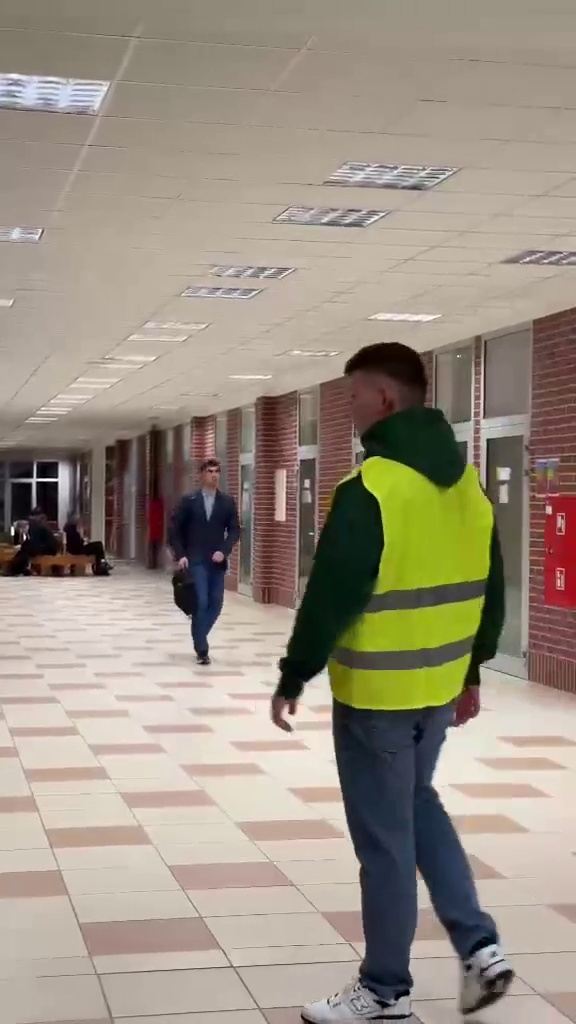no vest: (168, 453, 247, 660)
vest: (283, 340, 538, 1021)
